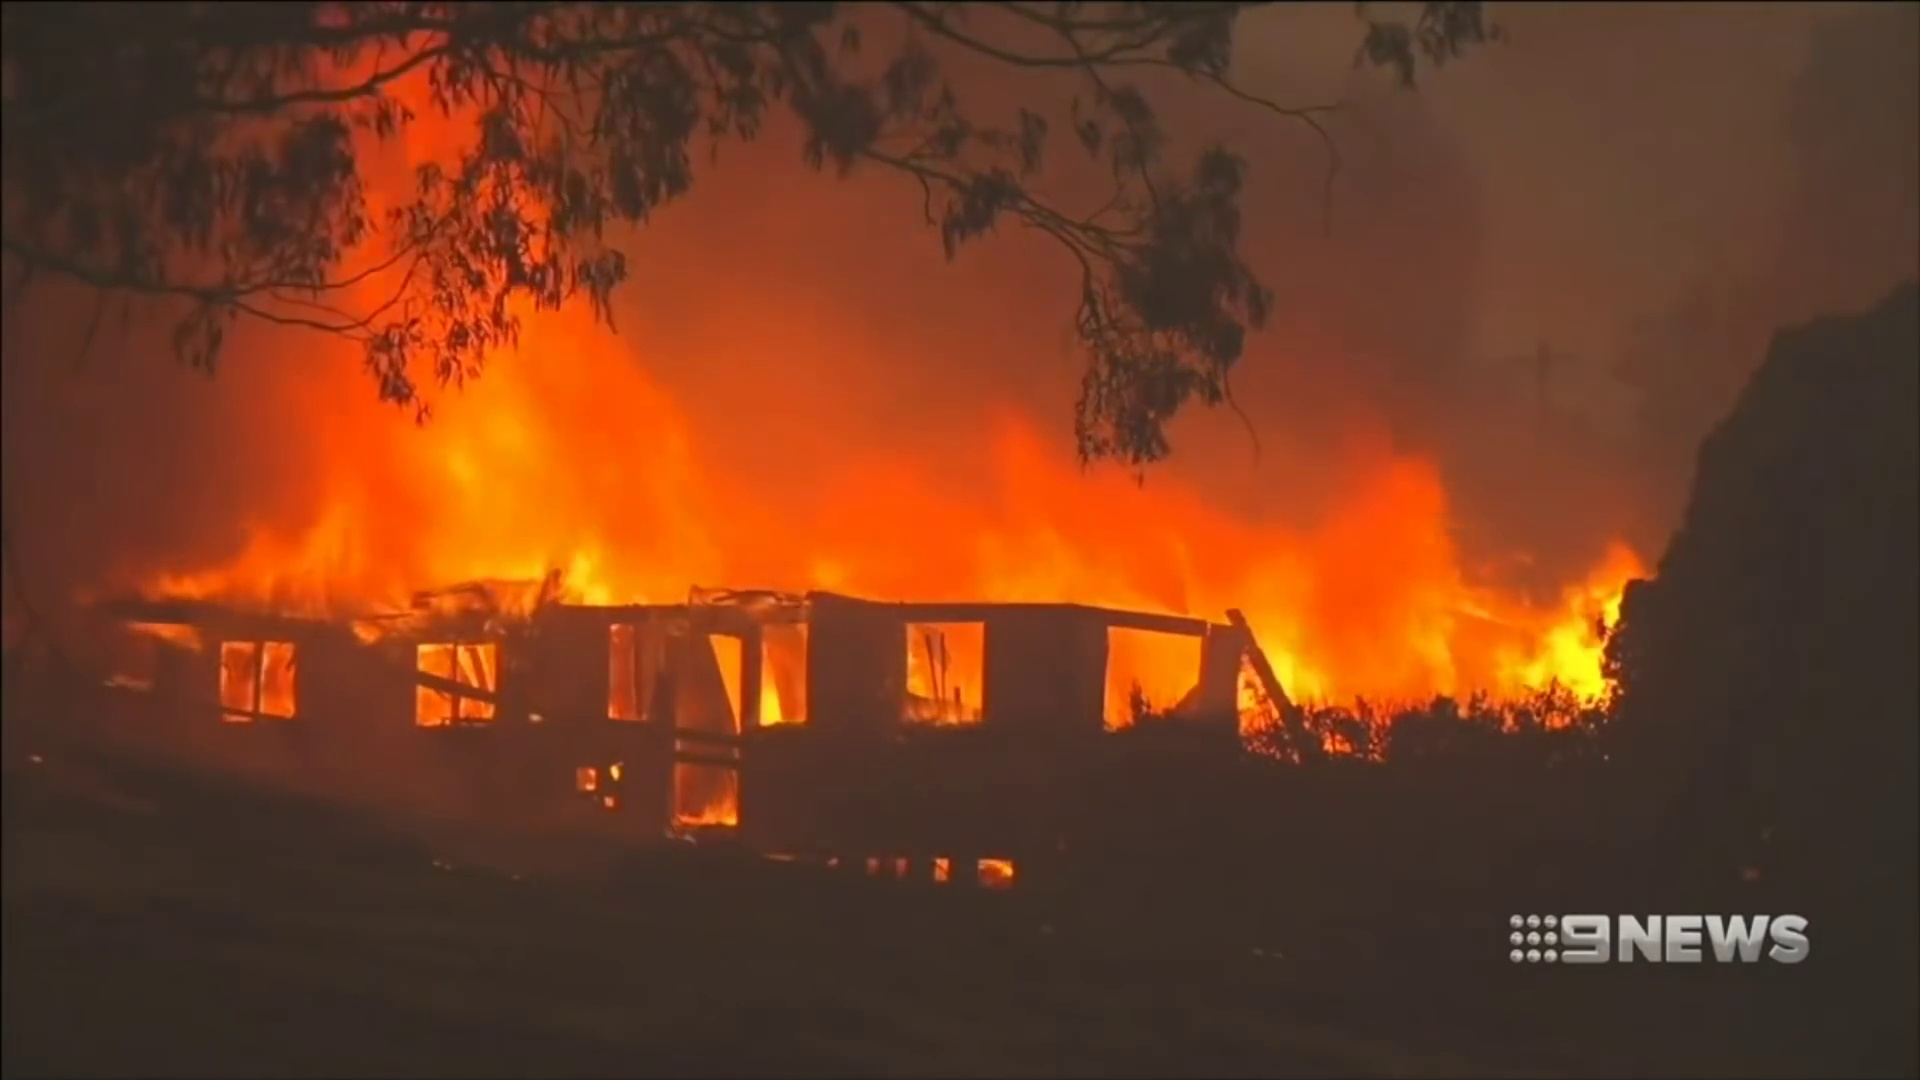fire: (1556, 601, 1610, 712), (1274, 655, 1292, 686)
